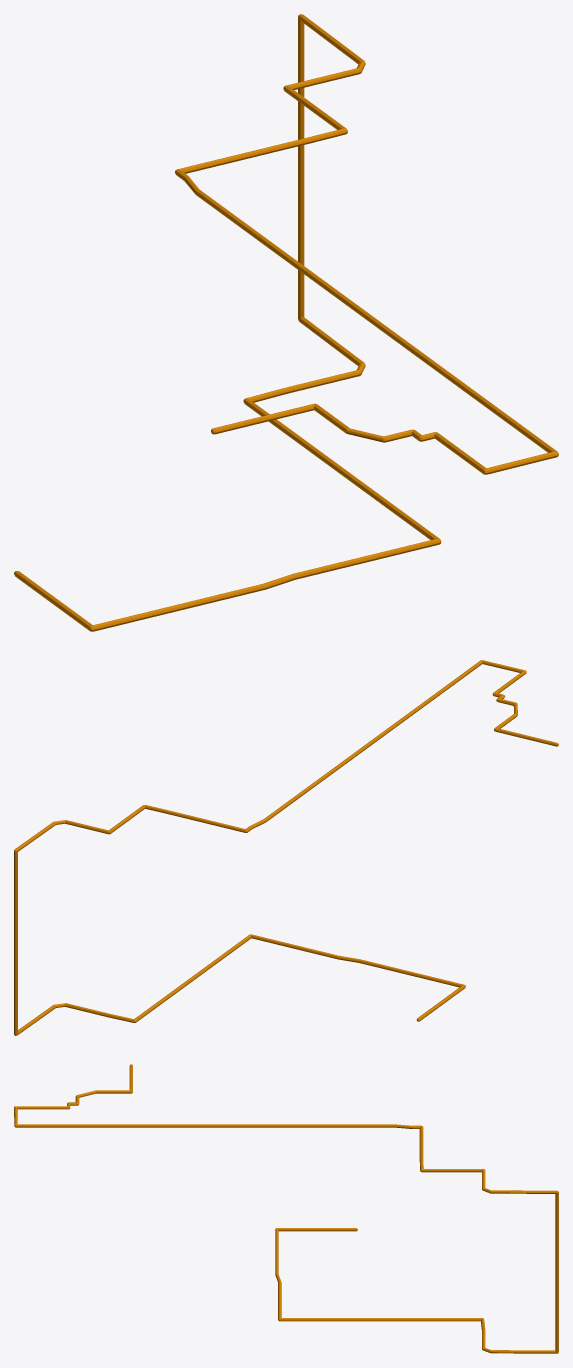
The picture shows the model from 3 angles, top to bottom: view 1: azimuth 30°, elevation 25°; view 2: azimuth 150°, elevation 25°; view 3: azimuth 270°, elevation 25°; orthographic projection. The views are drawn at different scales.
Size of the model in its own units: 1717 by 1020 by 3092.
